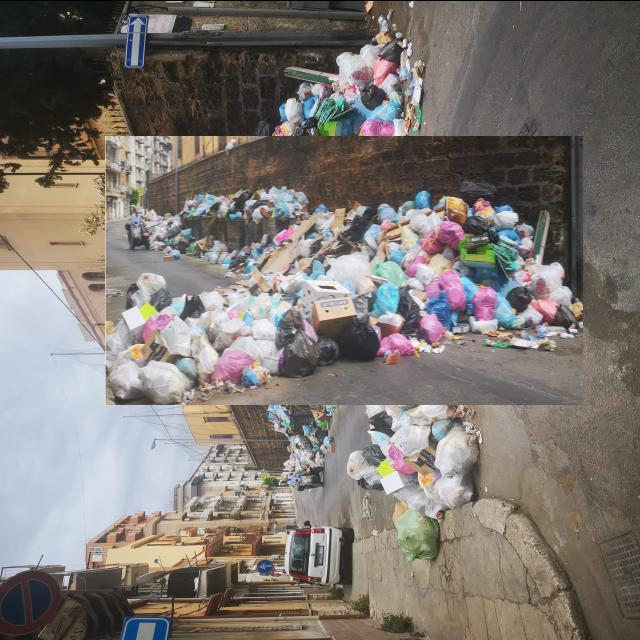Trashbag: (275, 314, 324, 378), (340, 320, 382, 364), (455, 176, 503, 208), (126, 285, 172, 318), (504, 285, 532, 315), (401, 308, 426, 339), (321, 337, 342, 368), (396, 286, 420, 313), (461, 215, 491, 236), (182, 291, 205, 318), (555, 302, 576, 328)
